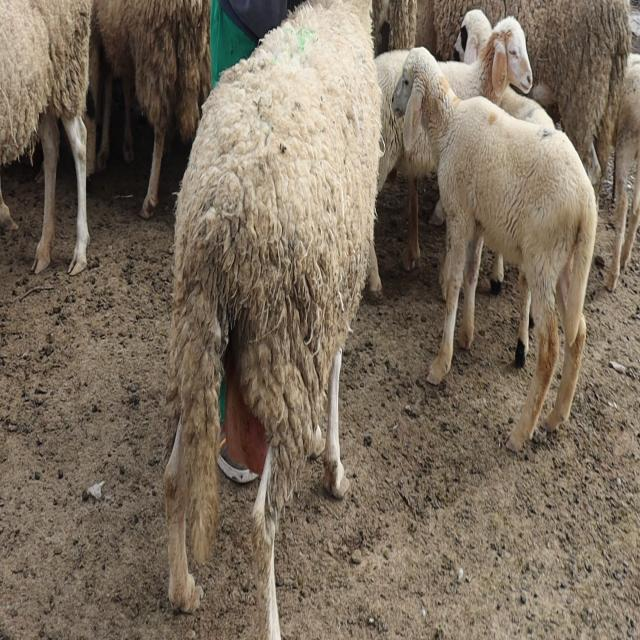Score_2: (164, 0, 381, 639)
